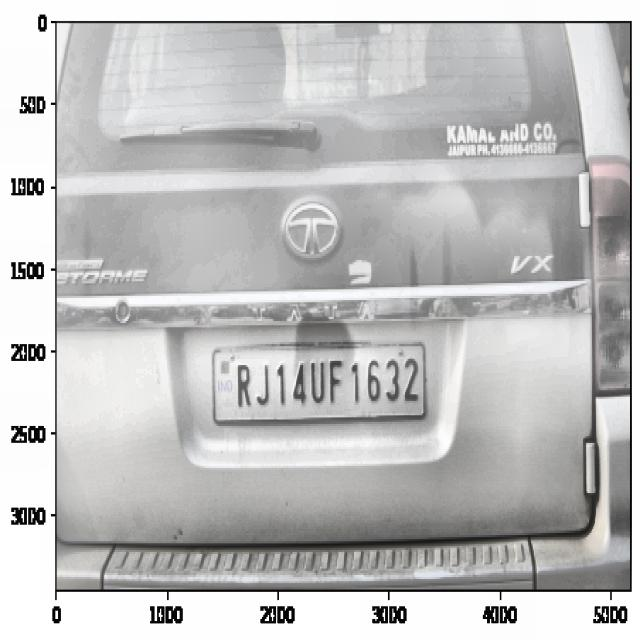license_plate: (228, 350, 428, 419)
